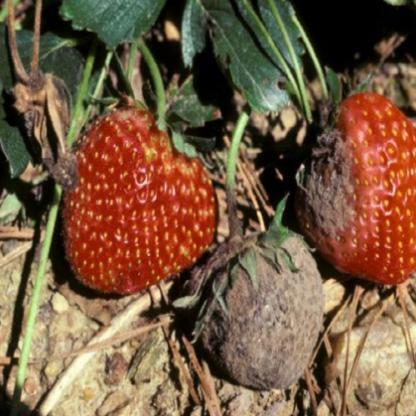Strawberry_Gray_Mold: (173, 191, 326, 391), (297, 110, 365, 243)
